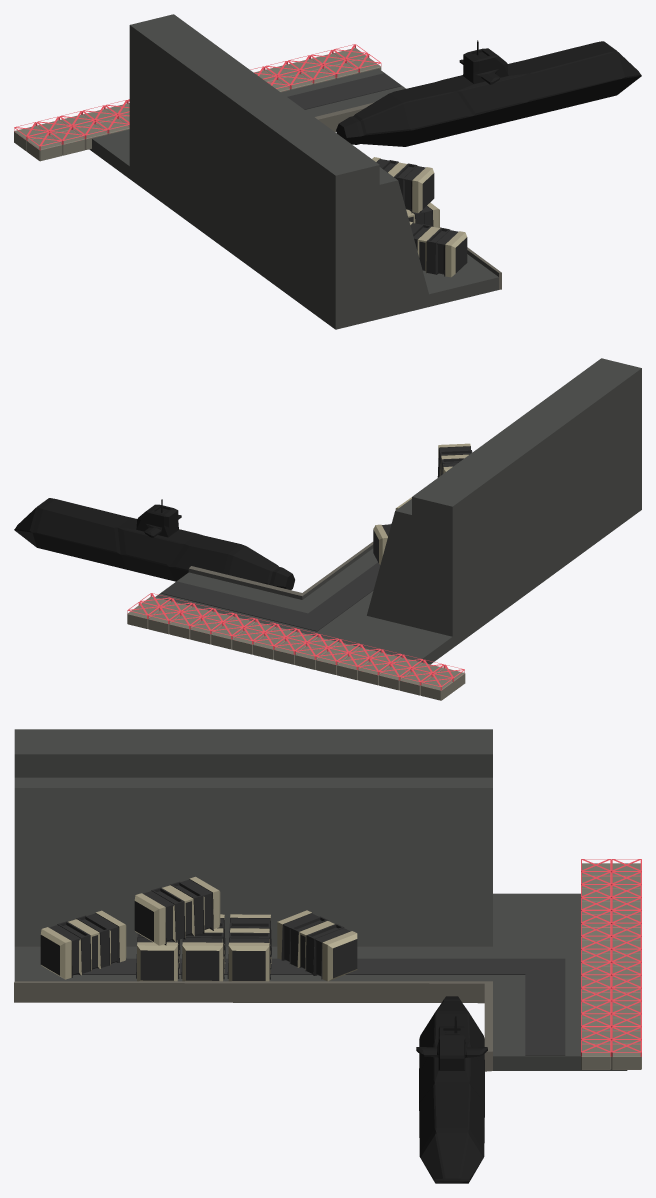
The picture shows the model from 3 angles, top to bottom: view 1: azimuth 30°, elevation 25°; view 2: azimuth 150°, elevation 25°; view 3: azimuth 270°, elevation 25°; orthographic projection. The views are drawn at different scales.
Parts seen in each view (by area): view 1: Cube.004, Submarine, Cube.006, Cube.007, Cube.012, Cube.005, Cube.009; view 2: Cube.004, Submarine, Cube.006, Cube.005, Cube.012, Cube.011; view 3: Cube.004, Cube.006, Submarine, Cube.005, Cube.012, Cube.007, Cube.011, Cube.010, Cube.008, Cube.009.
Boxes of the visible parts, x1,y1,x2,y2 form: Cube.004: [89, 14, 501, 329]; Submarine: [336, 40, 641, 146]; Cube.006: [14, 44, 381, 161]; Cube.007: [409, 221, 467, 277]; Cube.012: [372, 157, 434, 213]; Cube.005: [287, 73, 401, 109]; Cube.009: [406, 202, 439, 227]; Cube.004: [155, 358, 641, 664]; Submarine: [14, 498, 294, 589]; Cube.006: [127, 593, 465, 700]; Cube.005: [161, 562, 380, 631]; Cube.012: [437, 443, 472, 477]; Cube.011: [373, 523, 391, 564]; Cube.004: [14, 729, 627, 1071]; Cube.006: [581, 859, 641, 1069]; Submarine: [416, 996, 487, 1183]; Cube.005: [75, 958, 565, 1055]; Cube.012: [134, 876, 220, 945]; Cube.007: [40, 910, 126, 979]; Cube.011: [277, 910, 357, 981]; Cube.010: [227, 914, 271, 981]; Cube.008: [181, 914, 225, 981]; Cube.009: [136, 933, 180, 981].
Bounding box in the file's own units: 4737 × 1385 × 4107.
